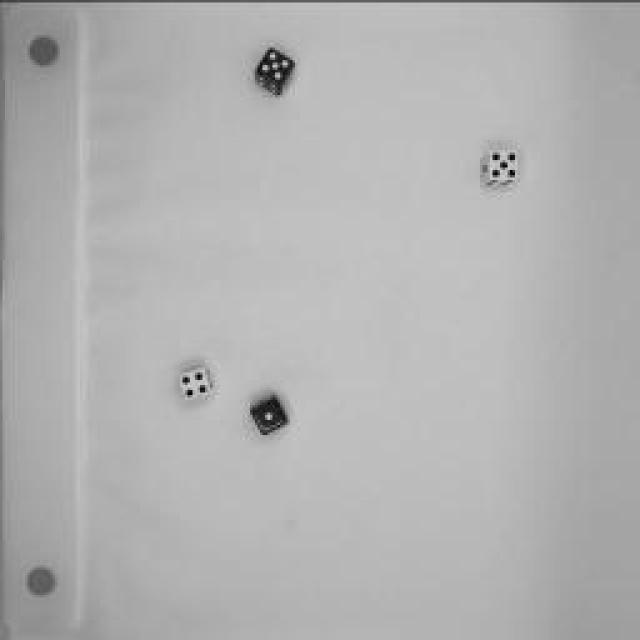dice_1: (247, 390, 295, 440)
dice_4: (172, 360, 218, 410)
dice_5: (249, 42, 301, 100), (474, 144, 526, 191)
